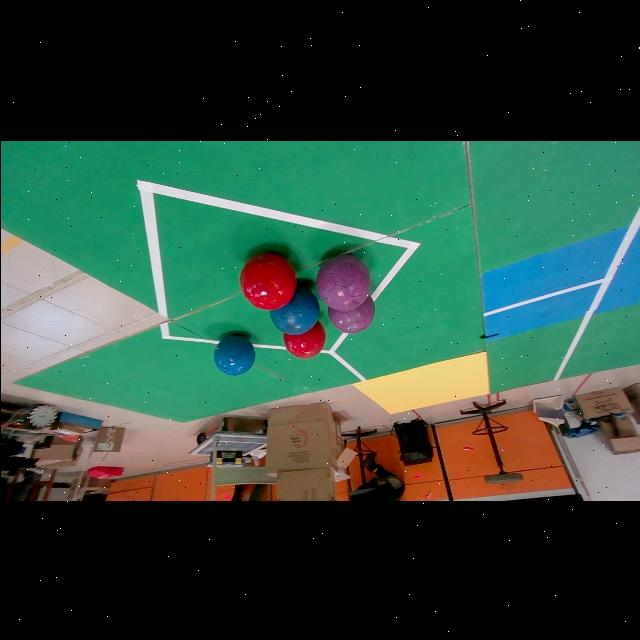B: (269, 284, 319, 334), (213, 334, 254, 375)
P: (315, 253, 371, 309), (327, 295, 374, 332)
R: (238, 252, 295, 310), (283, 321, 325, 358)
